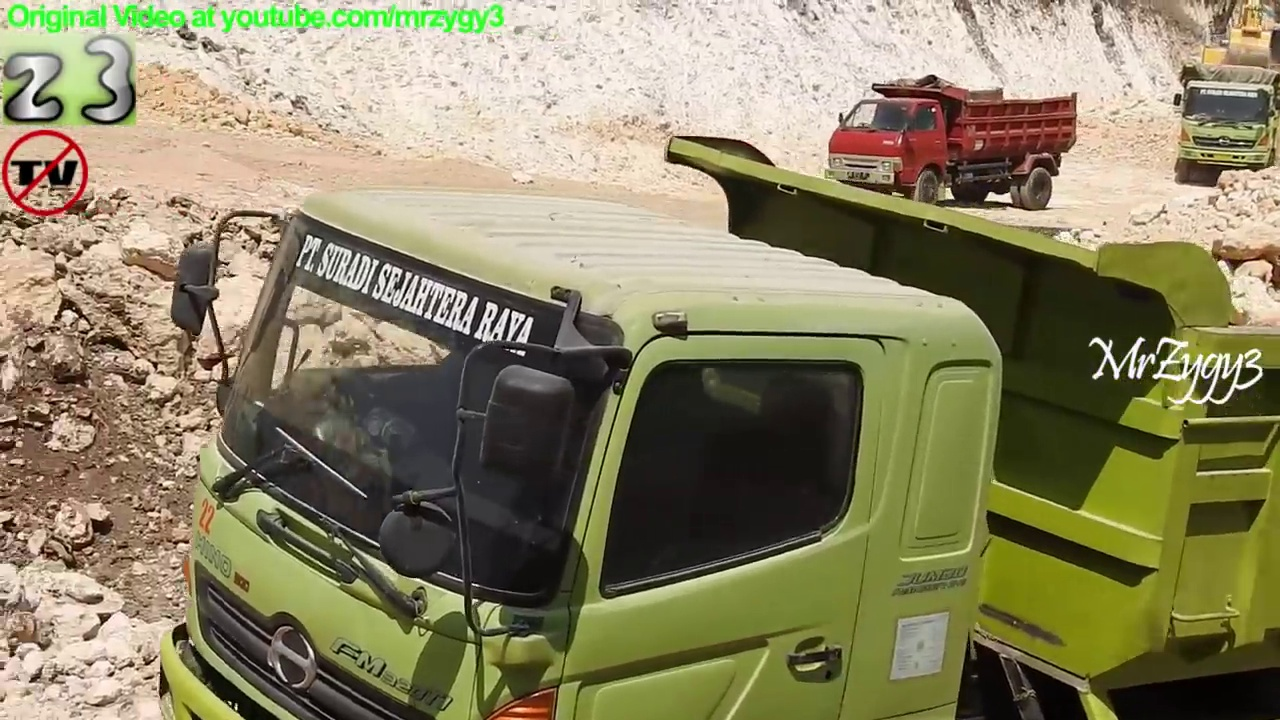excavator: (154, 133, 1280, 720), (1193, 3, 1280, 98)
truck: (824, 75, 1079, 213), (1174, 62, 1280, 187)
